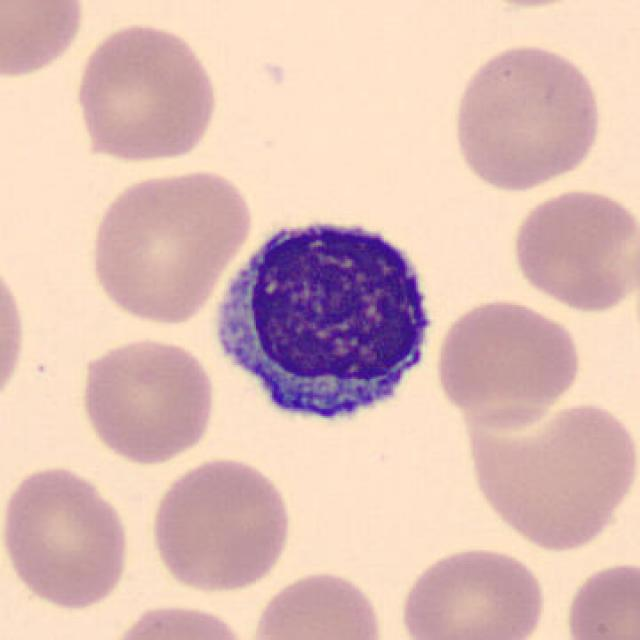Lymphocyte: (201, 199, 446, 441)
RBC: (457, 395, 638, 554), (84, 164, 254, 328), (446, 39, 606, 194), (70, 18, 222, 166), (146, 453, 295, 594), (430, 293, 585, 427), (0, 460, 133, 611), (74, 334, 218, 466), (506, 185, 636, 316), (395, 541, 549, 640), (246, 566, 390, 640), (0, 0, 89, 83), (560, 557, 638, 640), (100, 599, 254, 640), (0, 250, 30, 414)
